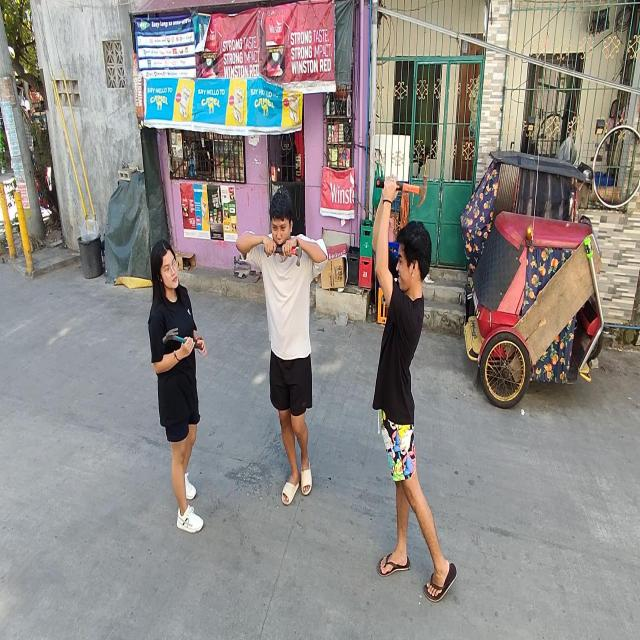hammer: (376, 175, 427, 206), (264, 239, 302, 267), (163, 327, 203, 351)
